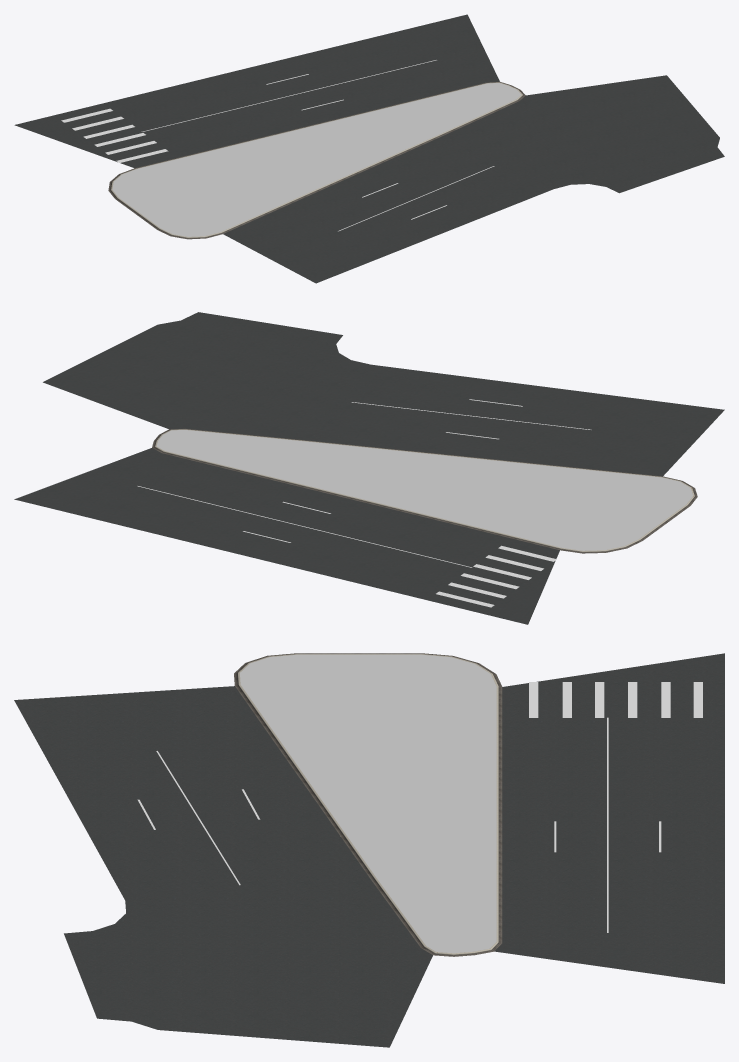
The model's file is New_Terrain_Area_27.fbx.
The picture shows the model from 3 angles, top to bottom: view 1: azimuth 30°, elevation 25°; view 2: azimuth 150°, elevation 25°; view 3: azimuth 270°, elevation 25°; orthographic projection. The views are drawn at different scales.
Visible parts, largest first — view 1: Road_20, Area_27, Road_Alpha_57; view 2: Road_20, Area_27, Road_Alpha_57; view 3: Road_20, Area_27, Road_Alpha_57.
Boxes of the visible parts, x1,y1,x2,y2 form: Road_20: (14,14,724,283); Area_27: (108,81,525,239); Road_Alpha_57: (61,60,436,162); Road_20: (14,312,724,624); Area_27: (152,428,697,553); Road_Alpha_57: (137,486,556,607); Road_20: (14,653,724,1047); Area_27: (234,653,502,956); Road_Alpha_57: (529,682,702,932).
Bounding box in the file's own units: 5903 × 7.15 × 4498.
